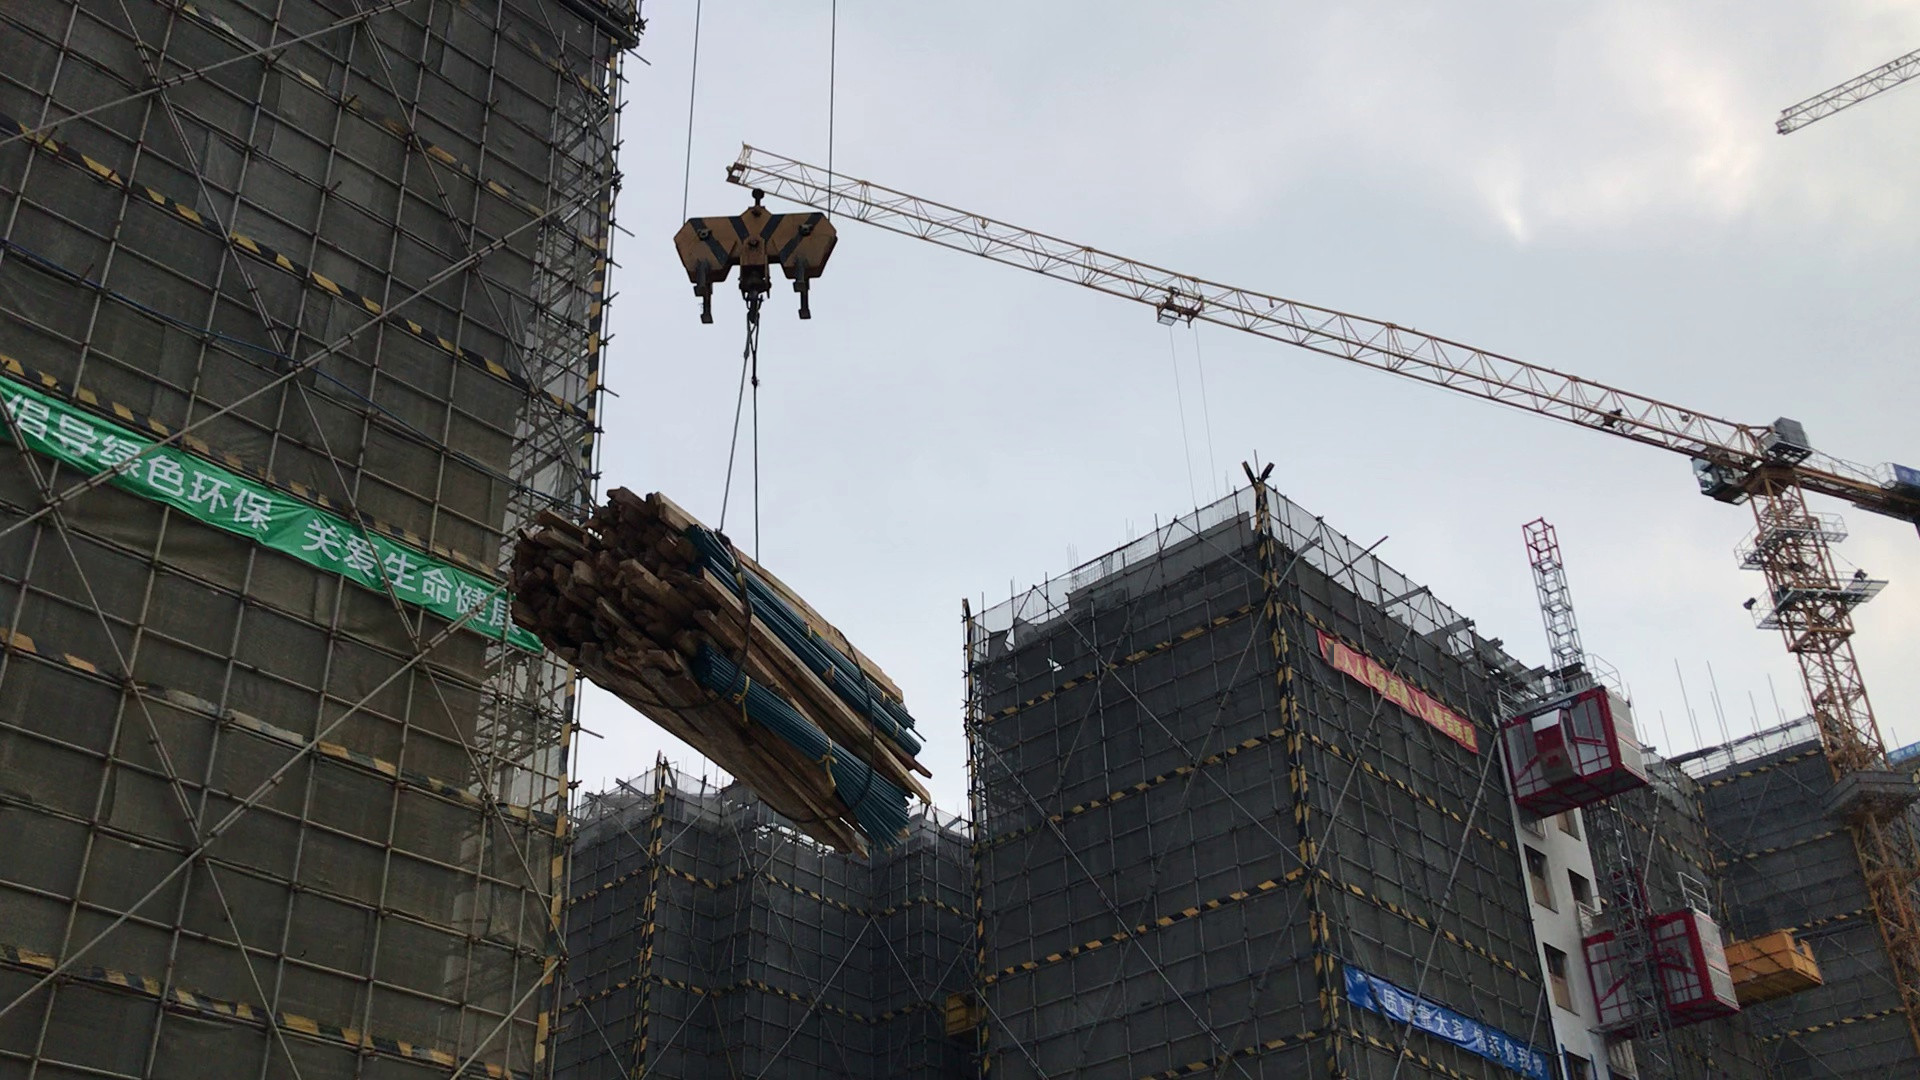hook: (658, 179, 851, 357)
slogan: (4, 353, 542, 688), (1329, 955, 1563, 1080), (1307, 620, 1487, 762)
wood: (504, 473, 968, 891)
